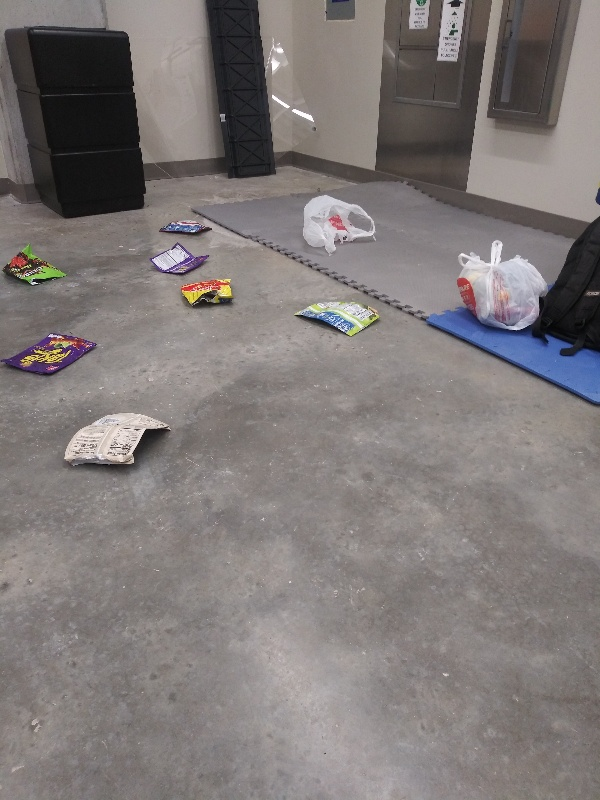bag: (61, 410, 176, 470), (1, 325, 99, 379), (290, 298, 384, 339), (3, 239, 73, 288), (146, 238, 212, 275), (176, 275, 237, 309), (155, 218, 214, 239)
